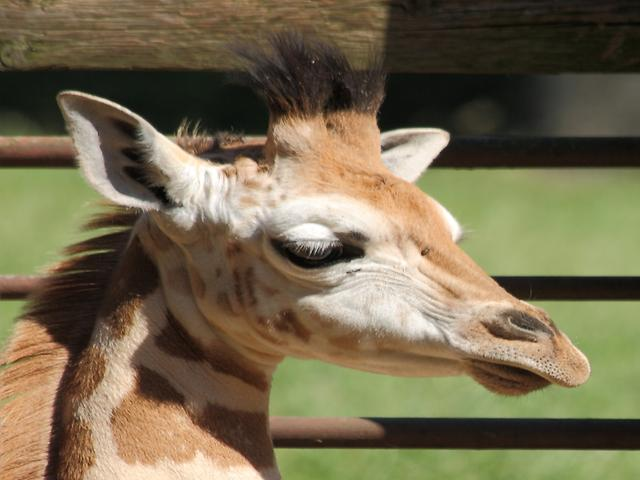giraffe: (44, 47, 631, 480)
